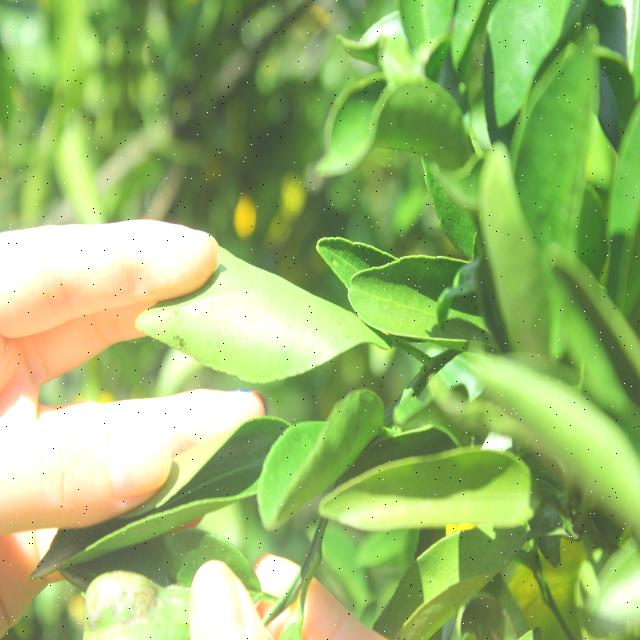melanose: (140, 250, 356, 388)
